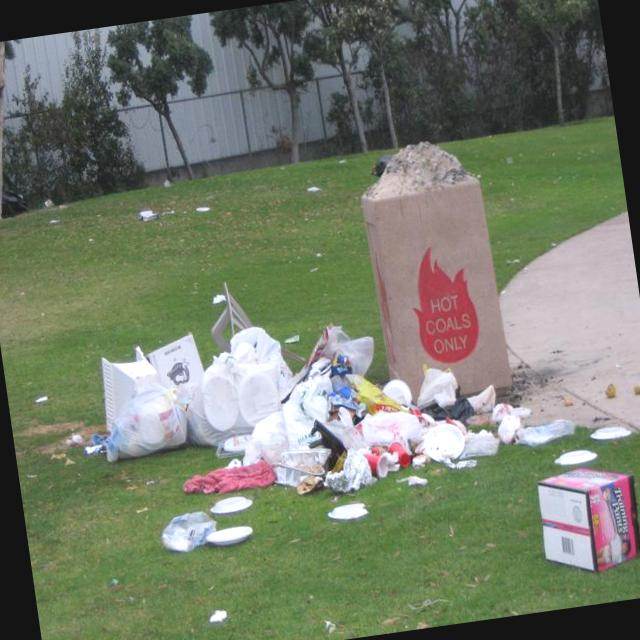garbage: (29, 227, 640, 640)
